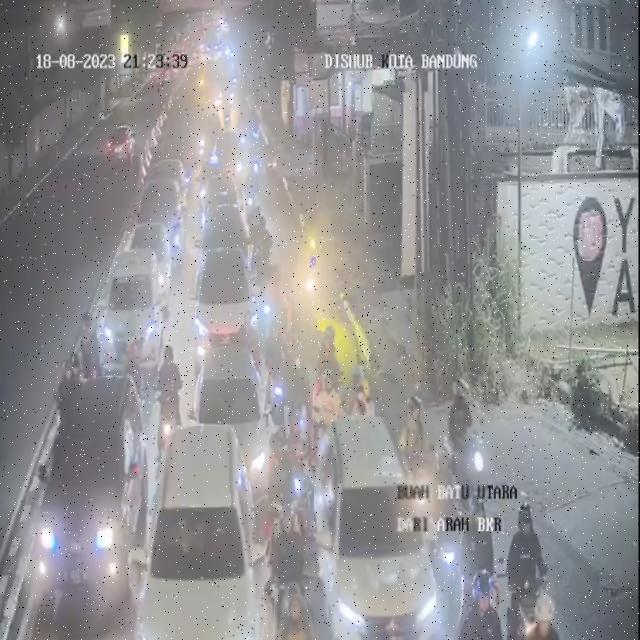cars: (34, 377, 157, 627), (134, 419, 264, 637), (314, 417, 433, 640), (190, 328, 266, 514), (100, 240, 170, 374), (196, 240, 260, 366), (136, 216, 176, 312), (198, 196, 248, 270), (146, 174, 186, 252), (202, 166, 240, 226), (225, 122, 250, 192)
motorcycle: (270, 497, 316, 639), (508, 492, 552, 638), (439, 374, 488, 503), (467, 497, 499, 626), (256, 246, 286, 359), (460, 570, 504, 640), (270, 430, 300, 524), (156, 342, 182, 450), (275, 578, 320, 640), (294, 226, 321, 326), (284, 345, 309, 451), (521, 596, 574, 640), (312, 361, 339, 435), (318, 323, 343, 400), (250, 212, 272, 280), (75, 312, 96, 378), (124, 337, 146, 396), (352, 365, 374, 420), (245, 172, 265, 223), (249, 106, 265, 154)
